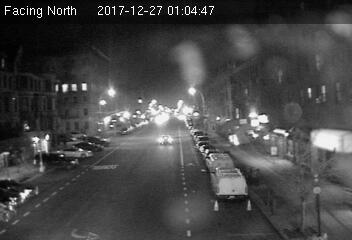car: (159, 135, 173, 144)
truck: (211, 167, 249, 201)
